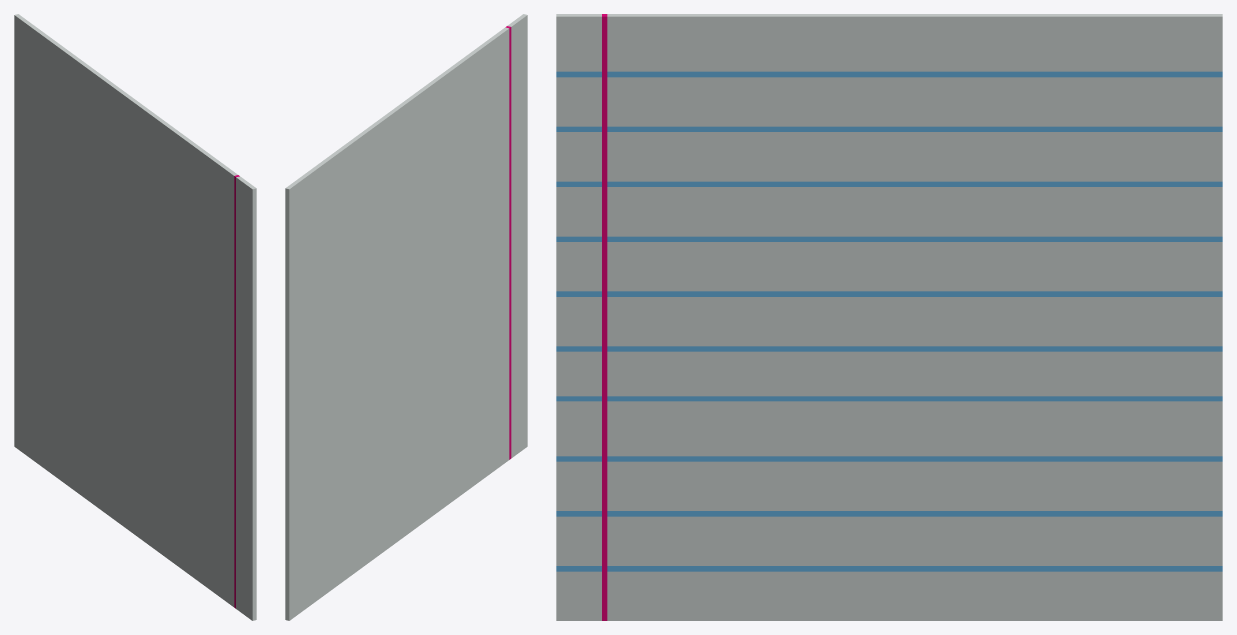
The model's file is linedPaper.fbx.
The picture shows the model from 3 angles, left to right: view 1: azimuth 30°, elevation 25°; view 2: azimuth 150°, elevation 25°; view 3: azimuth 270°, elevation 25°; orthographic projection. The views are drawn at different scales.
Visible parts, largest first — view 1: Cube.001; view 2: Cube.001; view 3: Cube.001.
Part boxes in pixels (x1,y1,x2,y2): Cube.001: (14, 14, 256, 620); Cube.001: (285, 14, 527, 620); Cube.001: (556, 14, 1222, 620).
Bounding box in the file's own units: 10 × 1000 × 1000.
